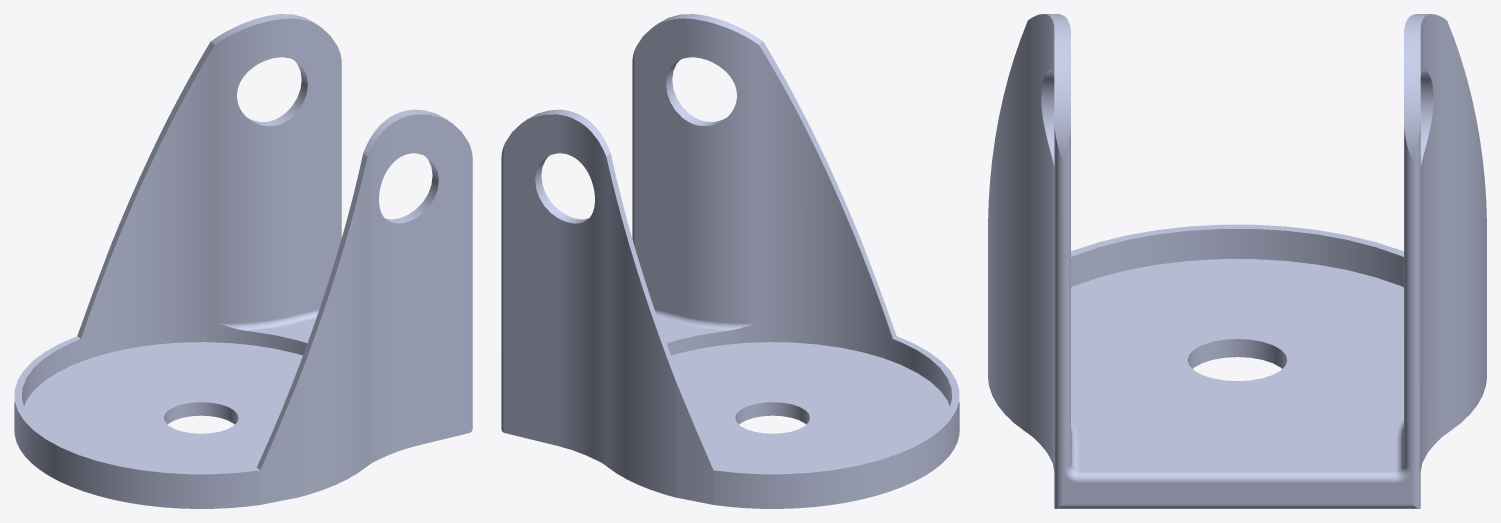
File: rodizio pc2.dae
3 renders of one model, left to right at view 1: azimuth 30°, elevation 25°; view 2: azimuth 150°, elevation 25°; view 3: azimuth 270°, elevation 25°, orthographic. The views are drawn at different scales.
Visible parts, largest first — view 1: node_50183806_eb2b_42c6_9784_c90b0c69beb1_mesh0; view 2: node_50183806_eb2b_42c6_9784_c90b0c69beb1_mesh0; view 3: node_50183806_eb2b_42c6_9784_c90b0c69beb1_mesh0.
Boxes of the visible parts, box(x1,y1,x2,y2) form: node_50183806_eb2b_42c6_9784_c90b0c69beb1_mesh0: box(14, 14, 472, 508); node_50183806_eb2b_42c6_9784_c90b0c69beb1_mesh0: box(501, 14, 959, 508); node_50183806_eb2b_42c6_9784_c90b0c69beb1_mesh0: box(988, 14, 1486, 508).
Bounding box in the file's own units: 0.034 × 0.0294 × 0.03.
